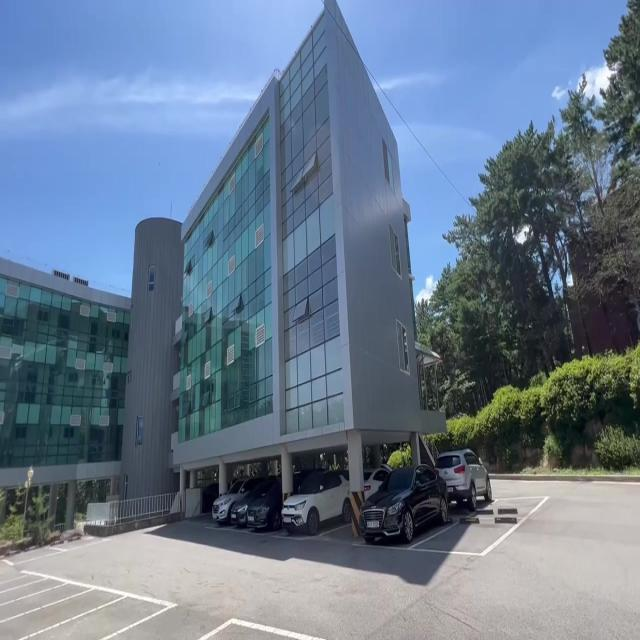building: (6, 12, 436, 448)
